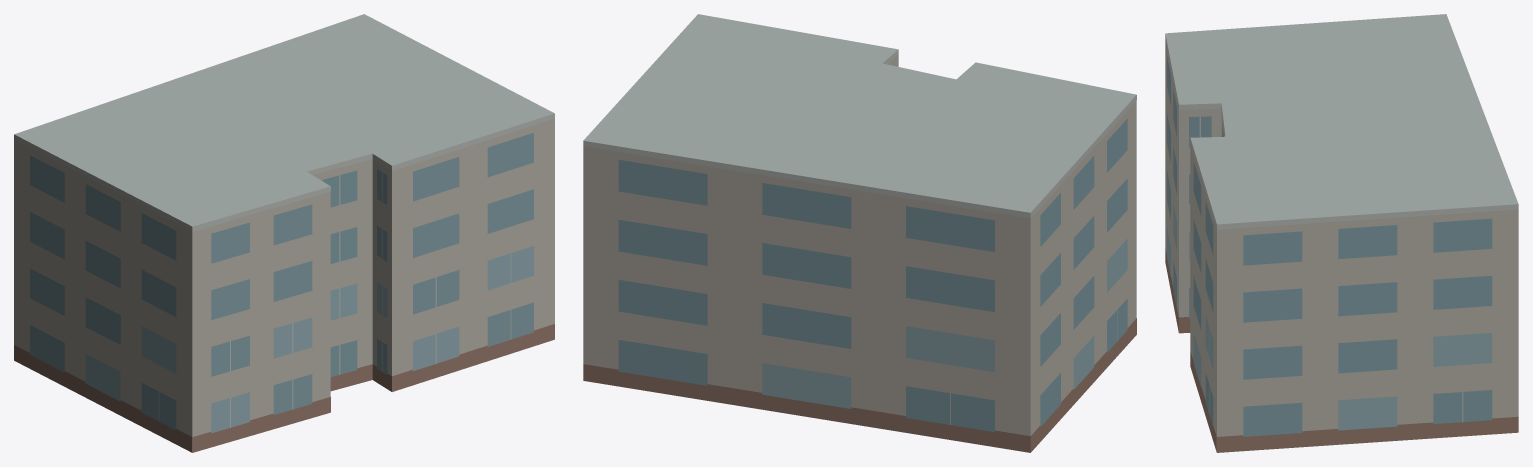
The model's file is survey-upis-32746221.glb.
3 renders of one model, left to right at view 1: azimuth 30°, elevation 25°; view 2: azimuth 150°, elevation 25°; view 3: azimuth 270°, elevation 25°, orthographic. The views are drawn at different scales.
Parts seen in each view (by area): view 1: survey-upis-32746221.tmp; view 2: survey-upis-32746221.tmp; view 3: survey-upis-32746221.tmp.
Boxes of the visible parts, x1,y1,x2,y2 form: survey-upis-32746221.tmp: [14, 14, 554, 452]; survey-upis-32746221.tmp: [583, 14, 1136, 452]; survey-upis-32746221.tmp: [1165, 14, 1518, 452].
Bounding box in the file's own units: 20.85 × 10.55 × 14.8.
